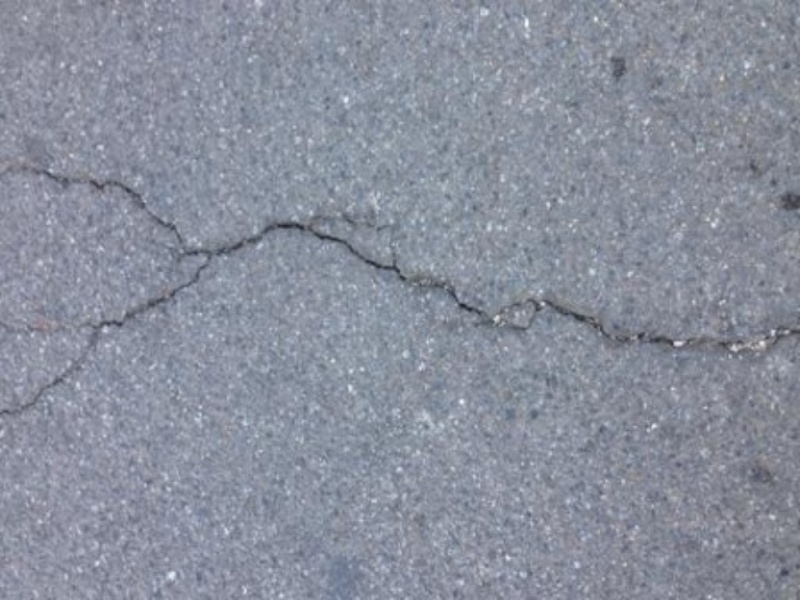crack: (9, 145, 800, 370)
